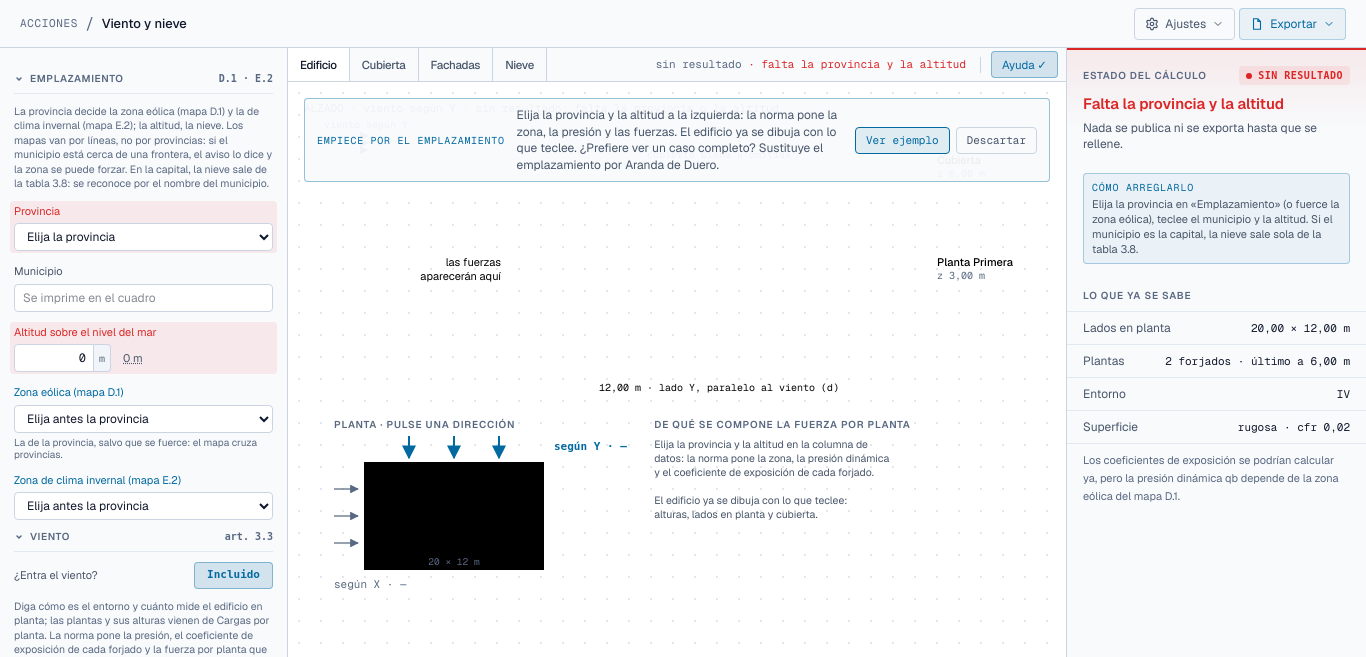
Test case: la capital sale del municipio, no de una casilla › en un municipio que no es la capital, la 3.8 sigue a mano para quien la necesite
Step 1. Select "Madrid" in the dropdown named "Provincia" → (144, 237), box 14,223 -> 273,251
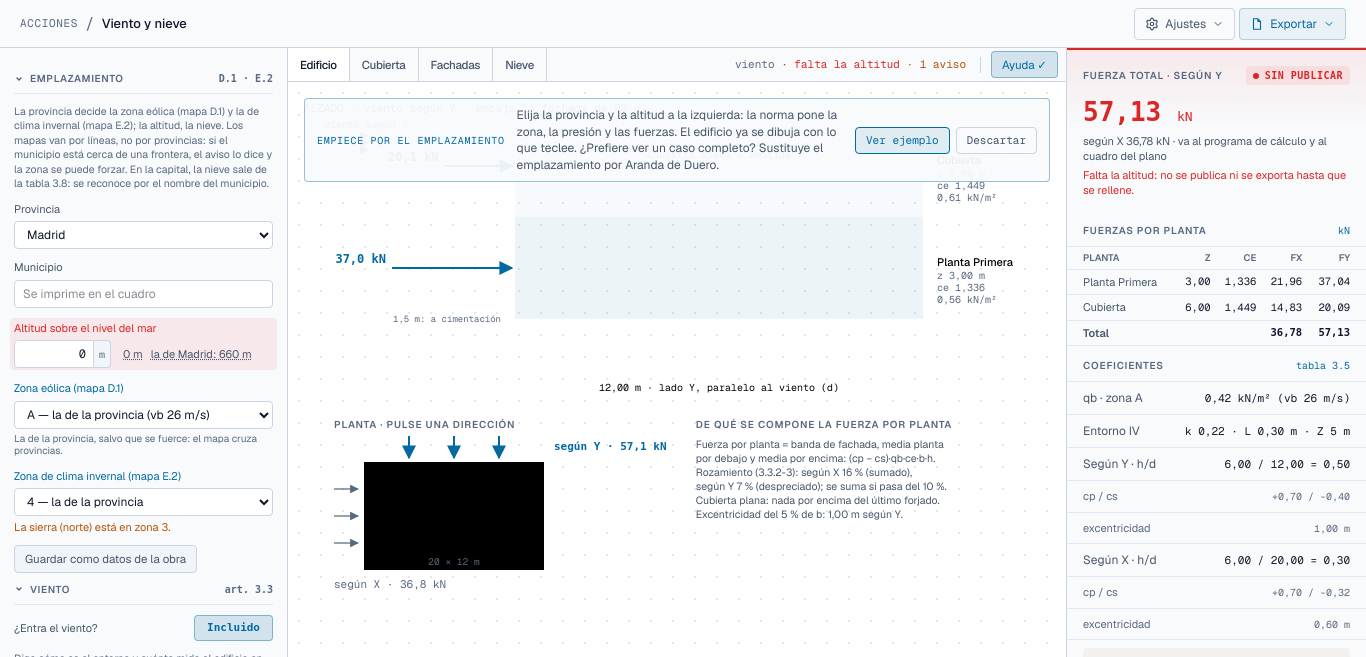
Step 2. Replace the text in the field named "Altitud" with "660" → (54, 354), box 14,340 -> 94,368
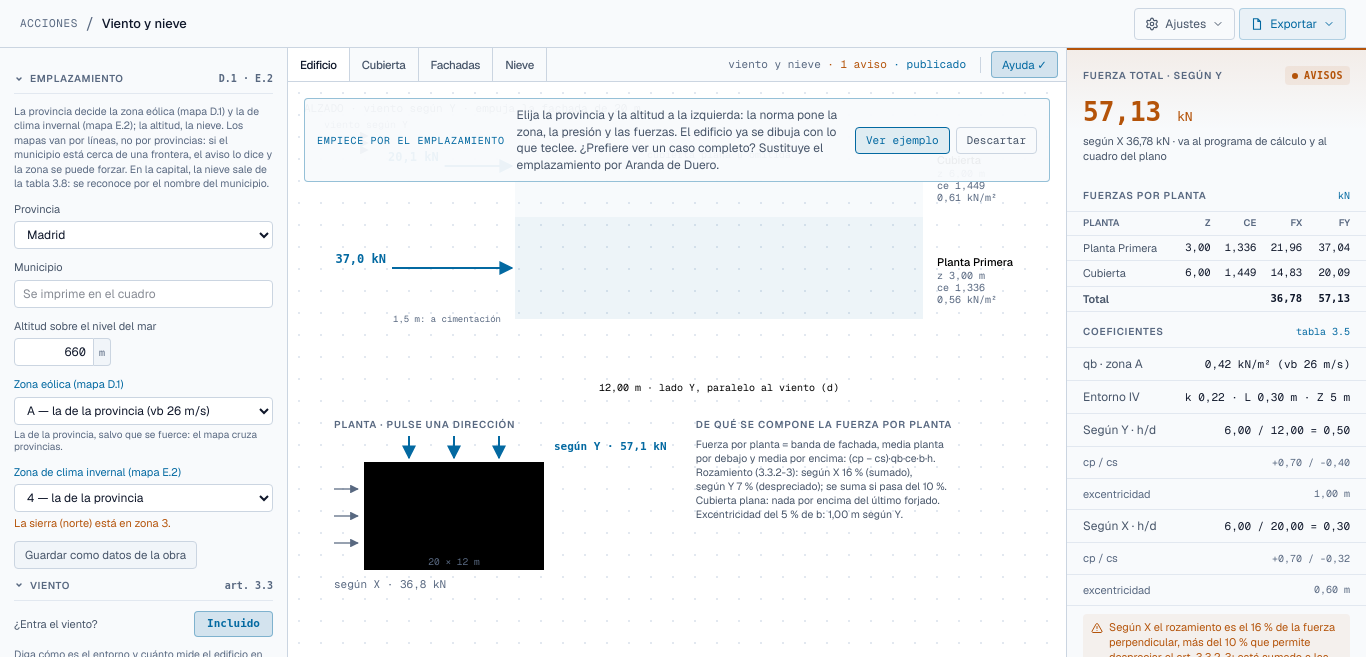
Step 3. Type "Alcalá de Henares" into the field named "Municipio" → (144, 294), box 14,280 -> 273,308
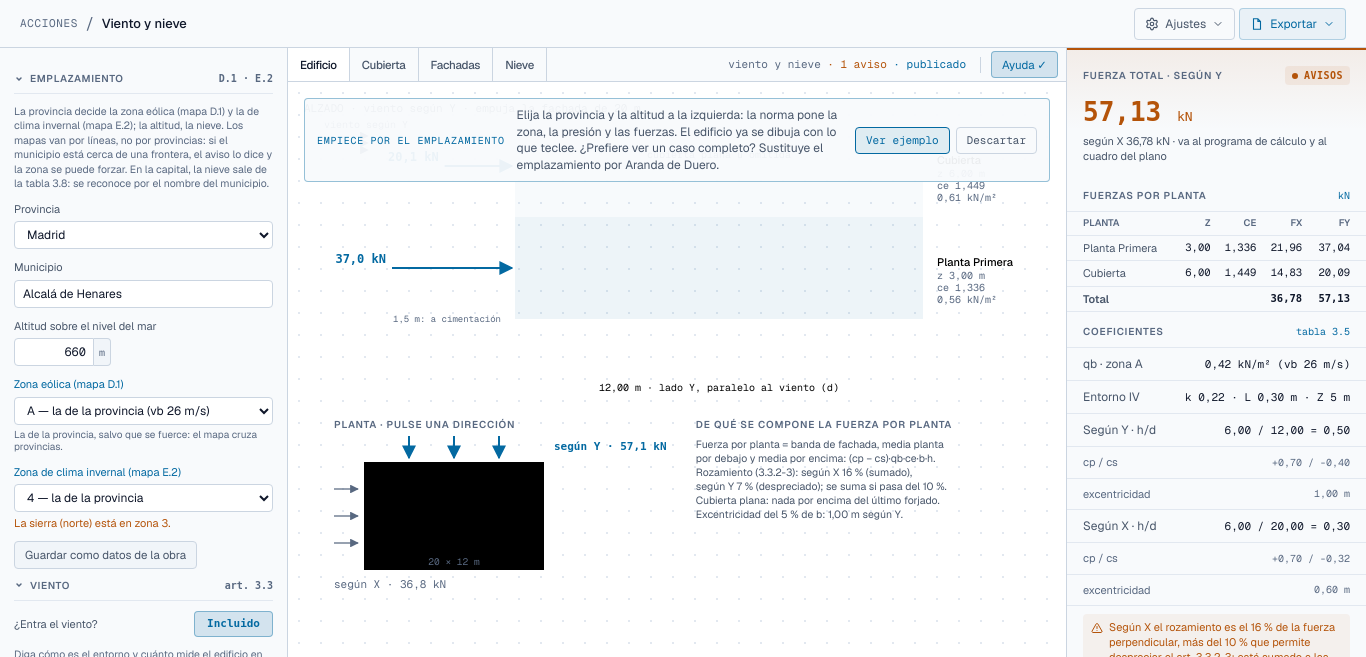
Step 4. Click the button "Nieve" → (520, 65), box 493,48 -> 547,81
(page scrolled)
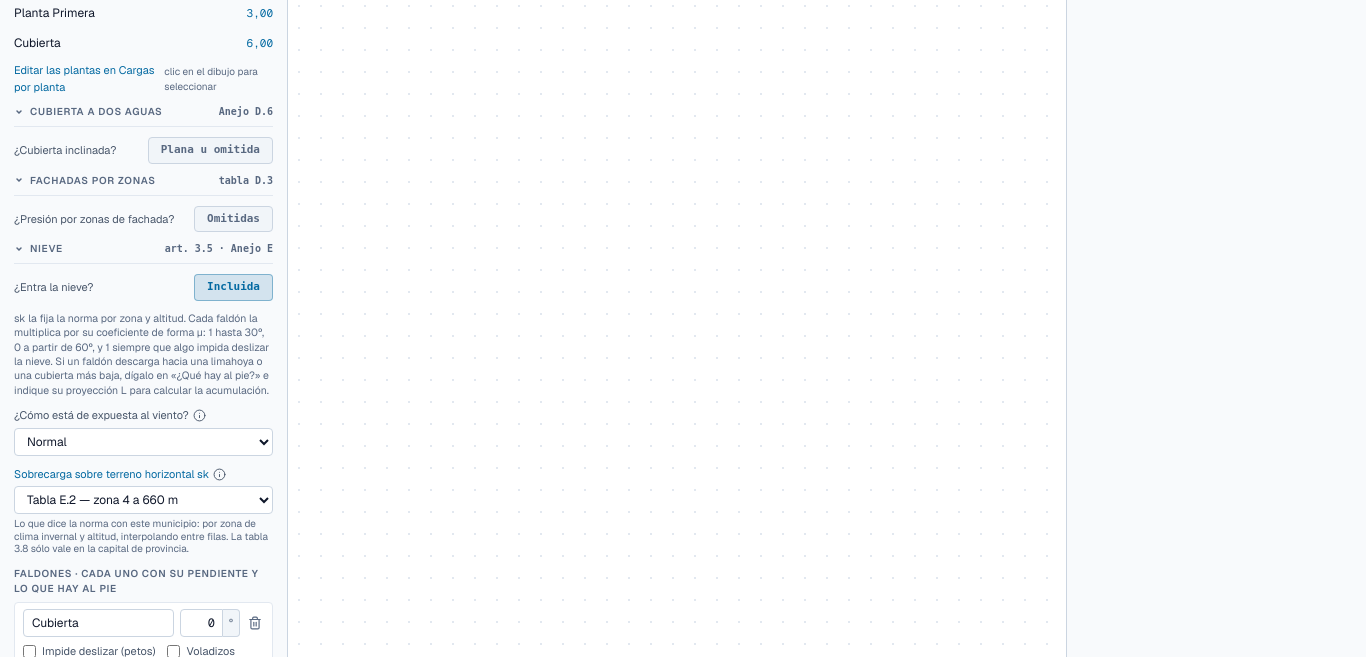
Step 5. Select "Tabla 3.8 — la obra está en Madrid" in the dropdown named "Origen de sk" → (144, 500), box 14,486 -> 273,514
(page scrolled)
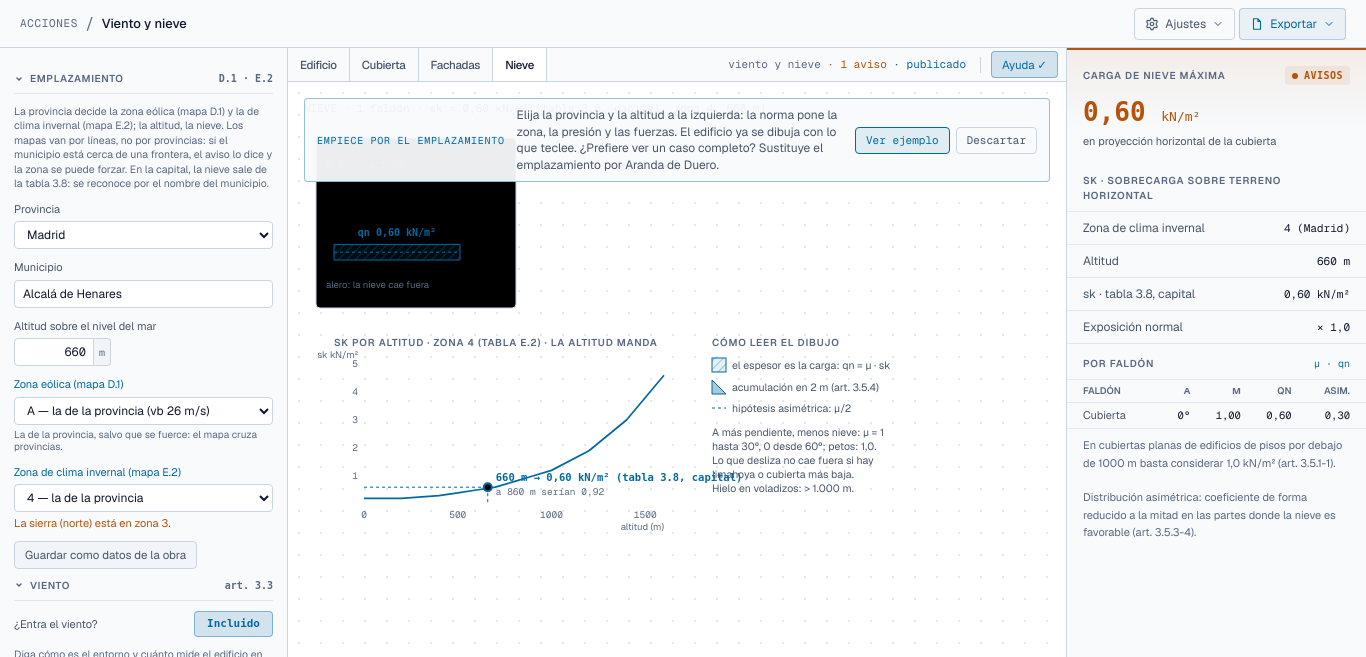
Expected: the text "sk · tabla 3.8, capital" is shown, 1083,285 -> 1195,303
